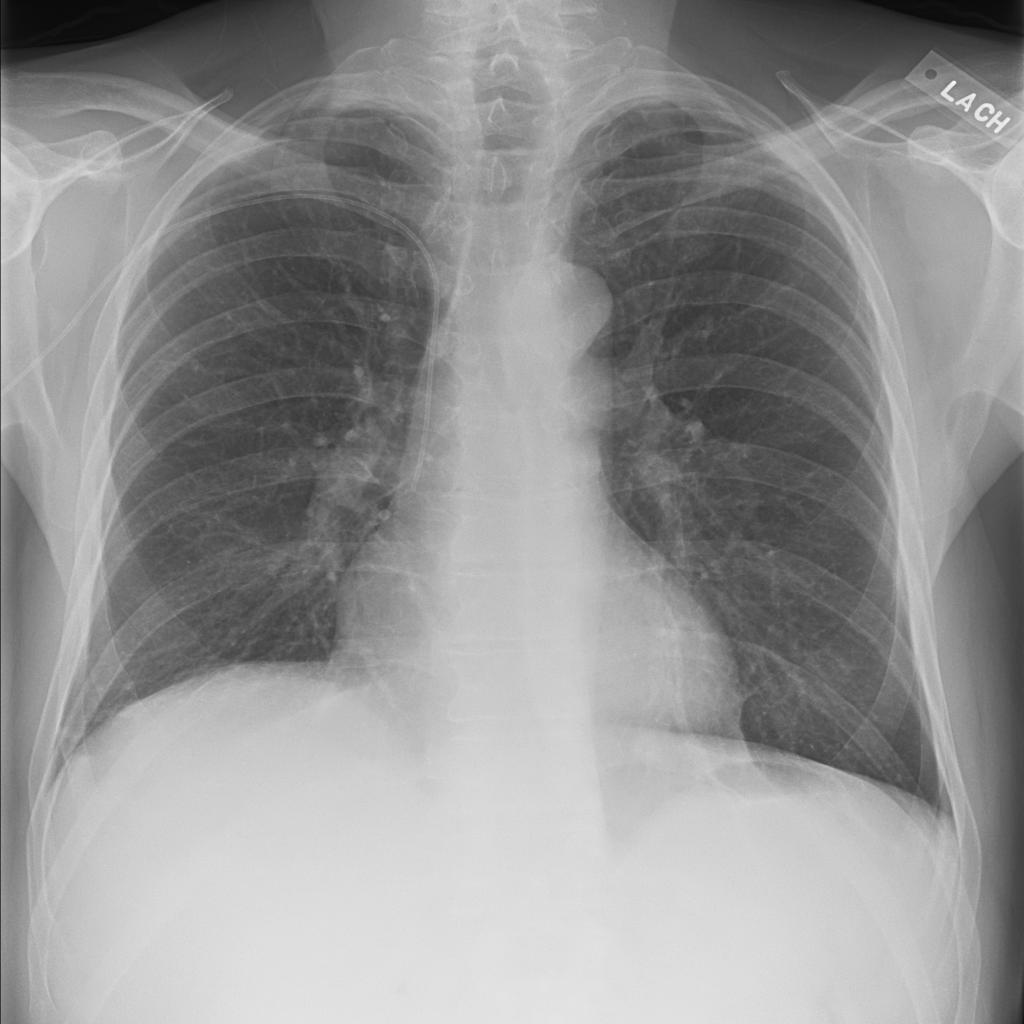Nodule: (390, 180, 471, 237)
